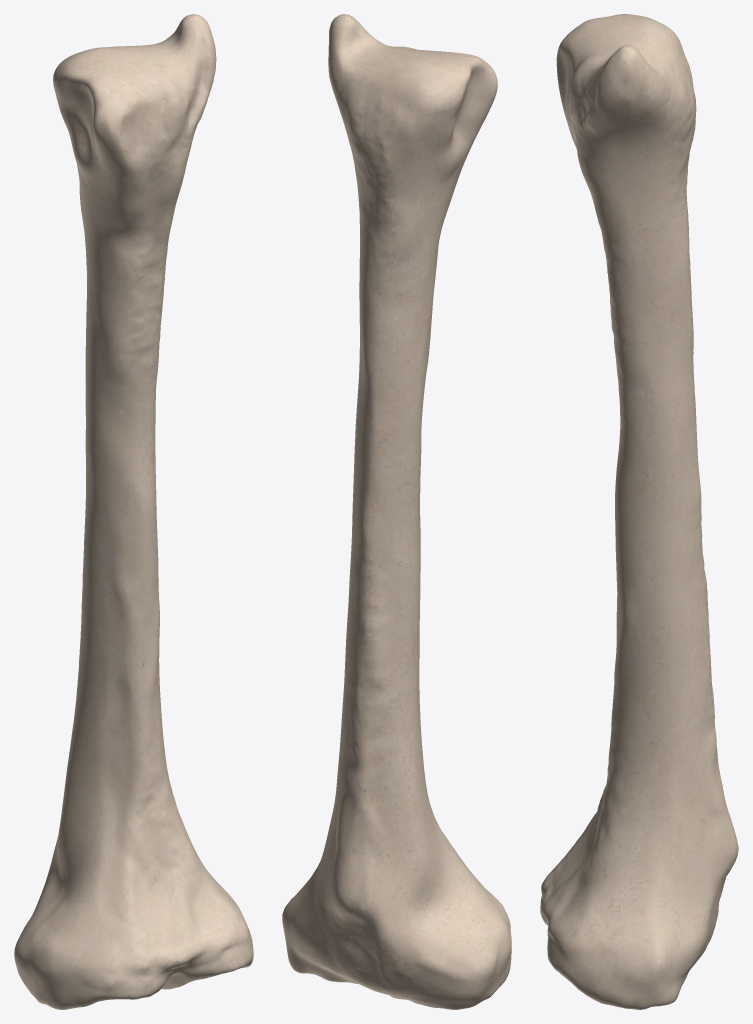
Rendered from bone_lower_leg_right.gltf.
3 views of the same model, side by side, from view 1: azimuth 30°, elevation 25°; view 2: azimuth 150°, elevation 25°; view 3: azimuth 270°, elevation 25° (orthographic).
Visible parts, largest first — view 1: Unterschenkelknochen_L001_164; view 2: Unterschenkelknochen_L001_164; view 3: Unterschenkelknochen_L001_164.
Boxes of the visible parts, bbox=[...] form: Unterschenkelknochen_L001_164: bbox=[14, 14, 253, 1009]; Unterschenkelknochen_L001_164: bbox=[282, 14, 511, 1009]; Unterschenkelknochen_L001_164: bbox=[540, 14, 738, 1009].
Bounding box in the file's own units: 0.3708 × 1.61 × 0.3045.
1 material, 1 textured.
